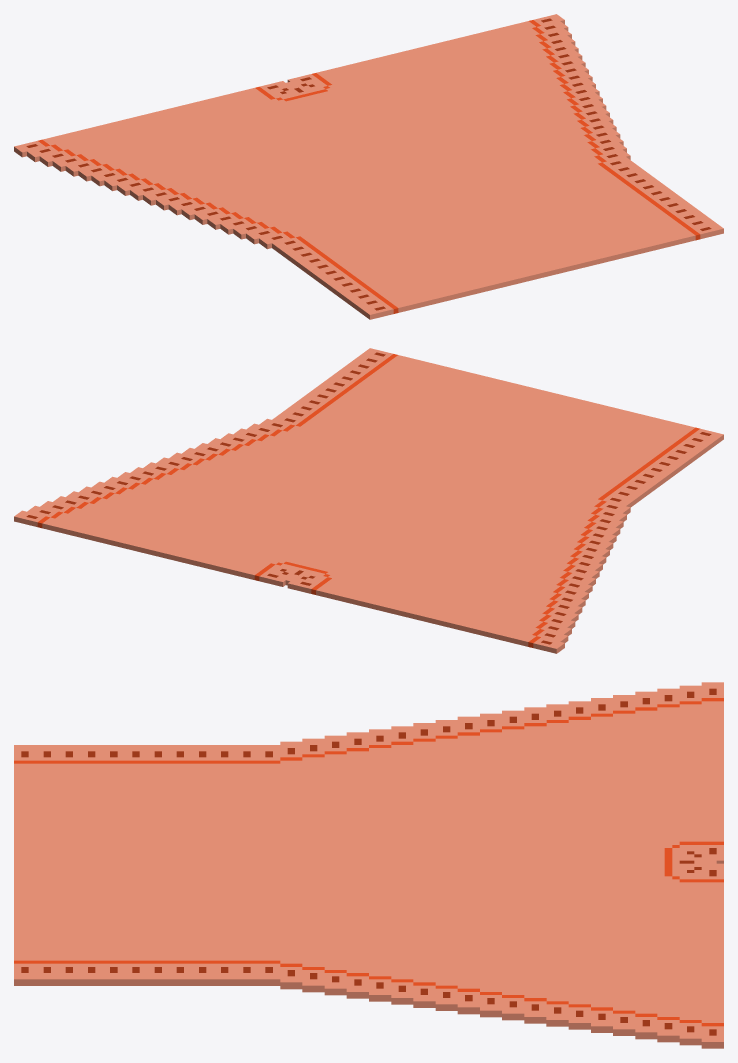
Rendered from Split_0-2.obj.
3 renders of one model, top to bottom at view 1: azimuth 30°, elevation 25°; view 2: azimuth 150°, elevation 25°; view 3: azimuth 270°, elevation 25°, orthographic. The views are drawn at different scales.
Visible parts, largest first — view 1: Split_0-2; view 2: Split_0-2; view 3: Split_0-2.
Part boxes in pixels (x1,y1,x2,y2): Split_0-2: (14, 14, 723, 319); Split_0-2: (14, 348, 723, 653); Split_0-2: (14, 682, 723, 1048).
Bounding box in the file's own units: 115 × 1 × 96.
Materials: 1 (1 with a texture image).
